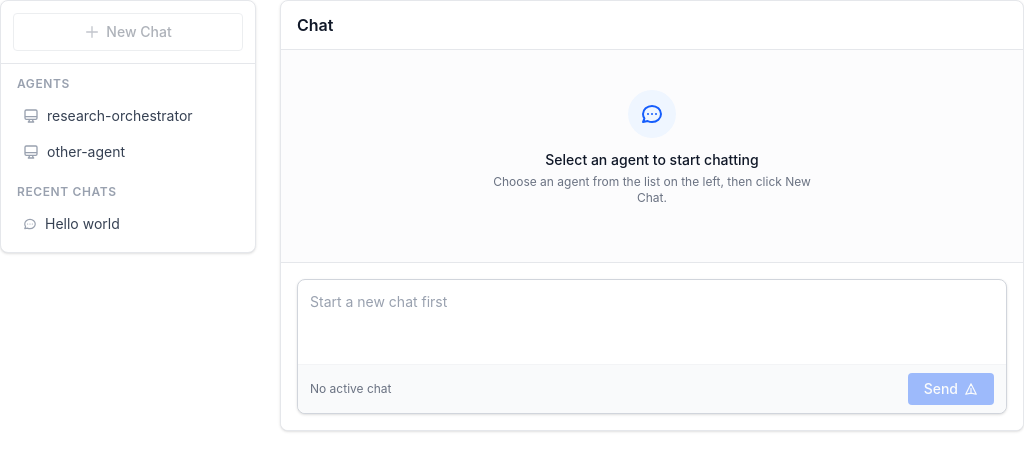
Test: ChatPage › starts a new chat with the sidebar agent copied at that moment
The width and height of the screenshot is (1024, 464).
Click the button "research-orchestrator" at (128,116), box 13,100 -> 243,132
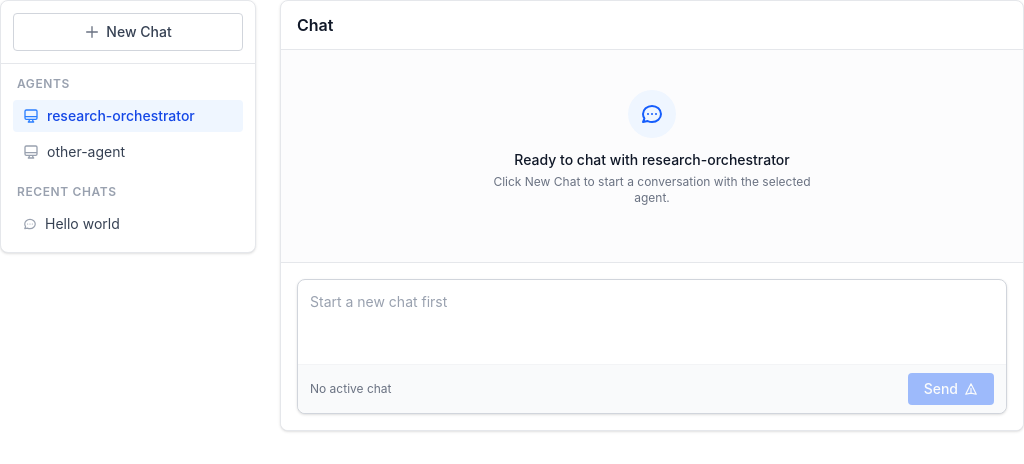
Click the button "New Chat" at (128,32), box 13,13 -> 243,51
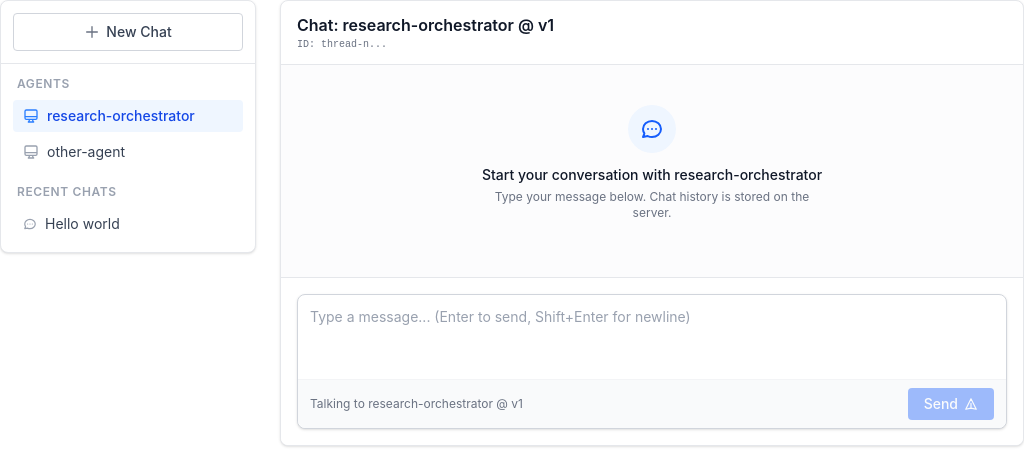
Check: the heading "Chat: research-orchestrator @ v1" is shown, box 297,13 -> 554,37
Check: the heading "Start your conversation with research-orchestrator" is shown, box 482,165 -> 822,185
